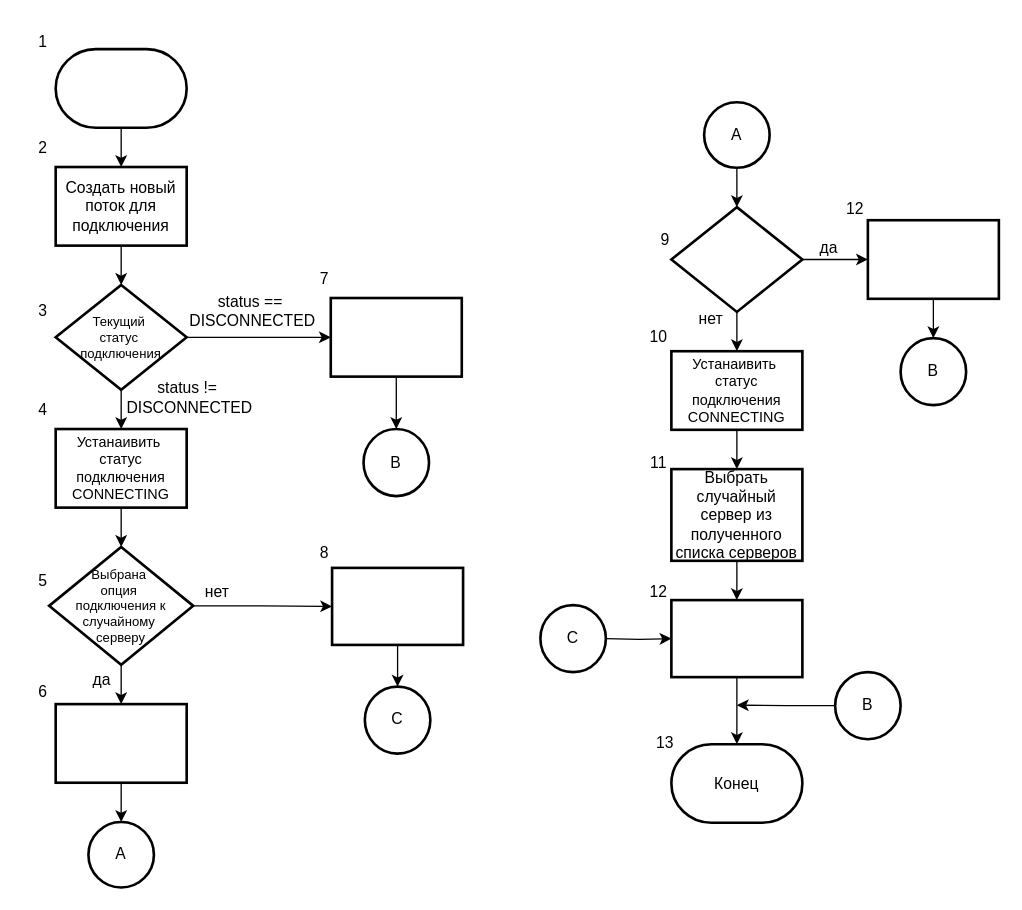
The diagram is 1022 pixels wide and 910 high, and some of its shapes have lost their labels. Each missing label, with the centre of its shape:
"Выбросить исключения" belongs at point (395, 336).
"Начало" belongs at point (120, 87).
"Получить список серверов" belongs at point (120, 742).
"Создать URL из тестового компонента на экране" belongs at point (397, 606).
"Список серверов пустой" belongs at point (736, 259).
"Устанаивить статус подключения DISCONNECTED" belongs at point (933, 258).
"Установить соединение с выбранным сервером" belongs at point (736, 638).
